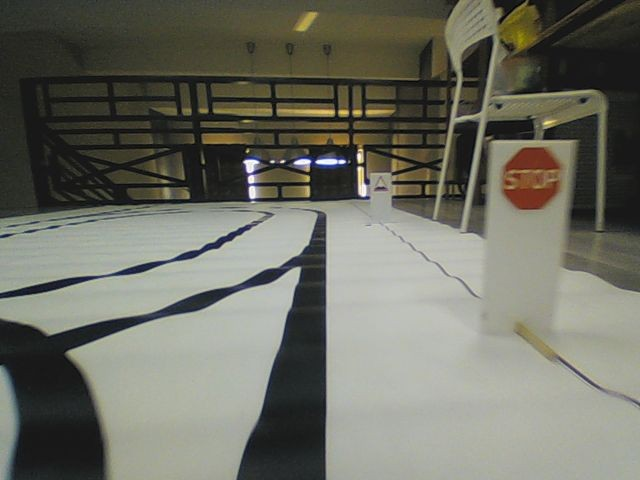Nerov: (373, 175, 388, 194)
Stop: (501, 145, 562, 210)
